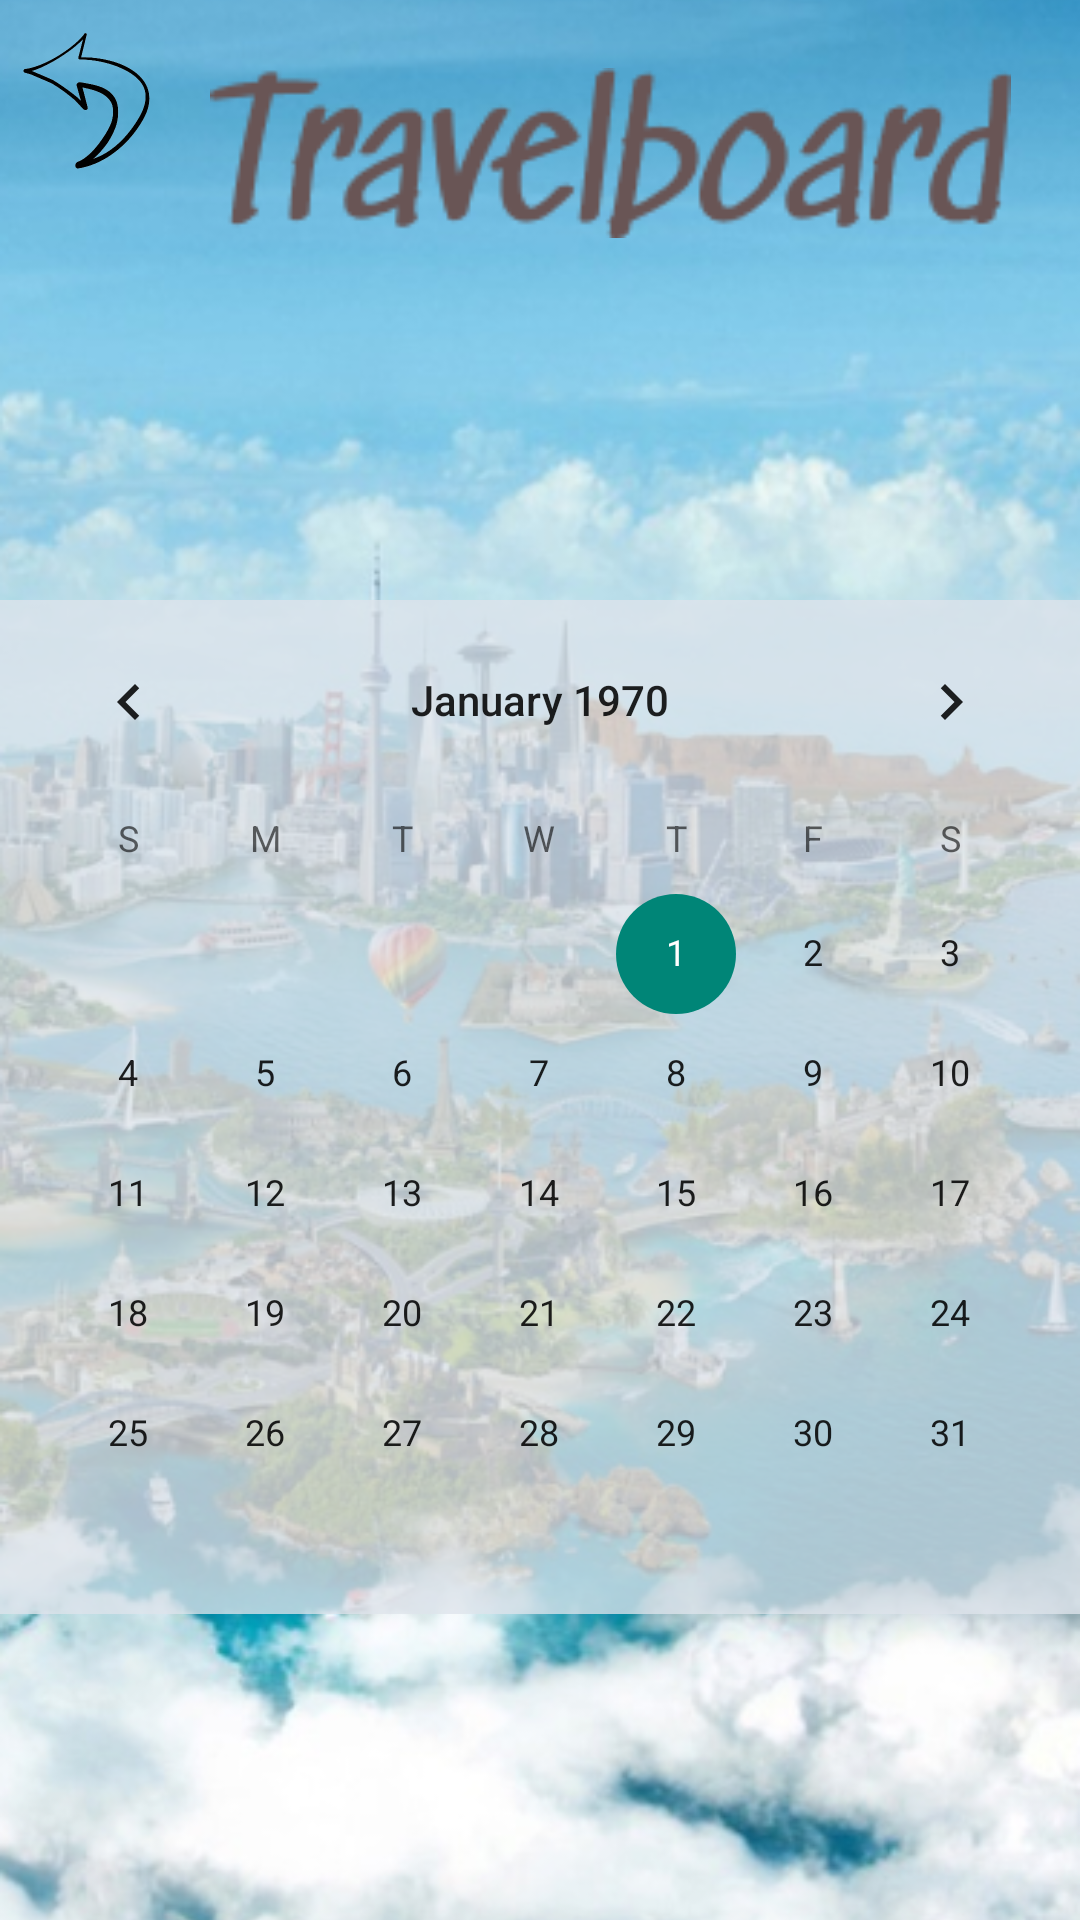

Icon bounding boxes for this 1080px x 1920px phone screenshot, format (left=x1, top=y1, right=x2, bottom=y2):
nazad: (left=0, top=0, right=174, bottom=183)
